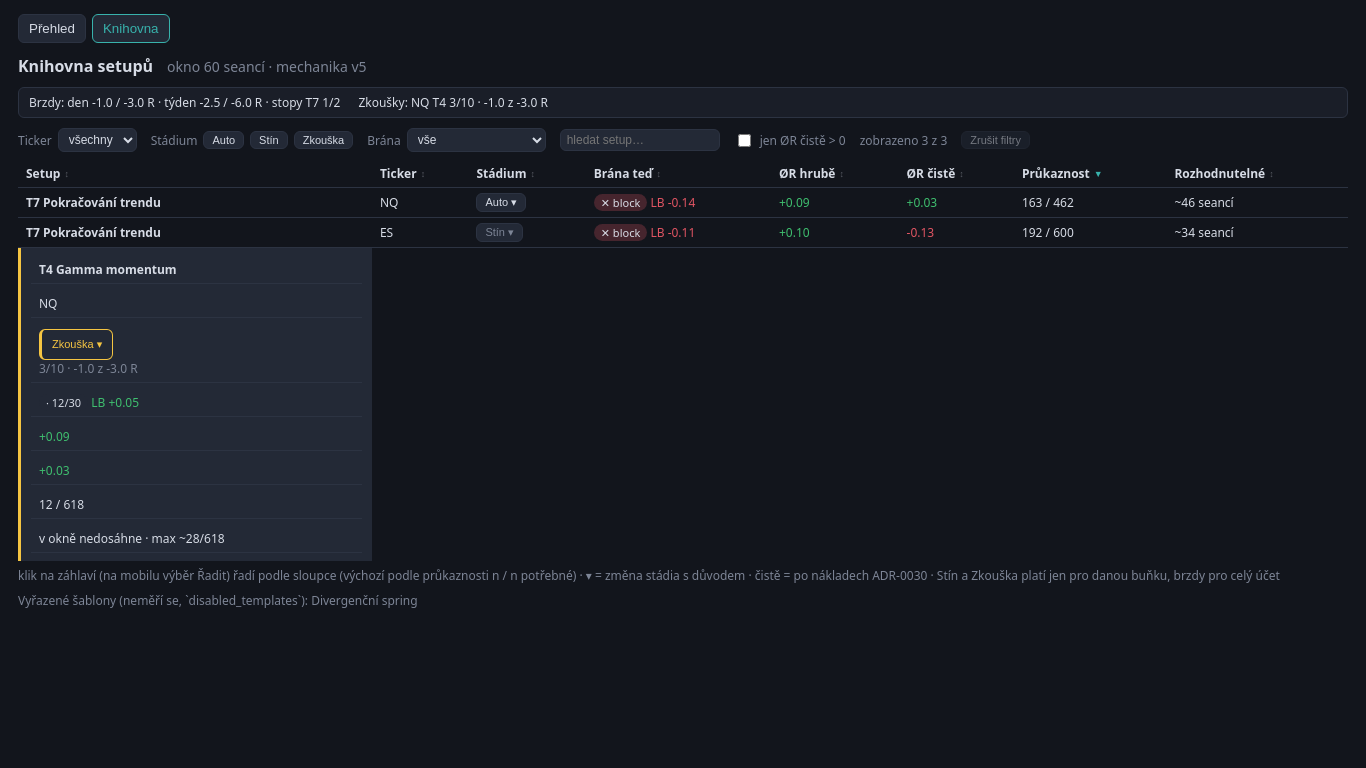
Scenario: dialog: běžící zkouška se obnovuje, kladná LB štítek nemá, chyba serveru zůstane v dialogu
Click the button with aria-label "Stádium T4 Gamma momentum · NQ" at (76, 344), box [39, 329, 113, 360]
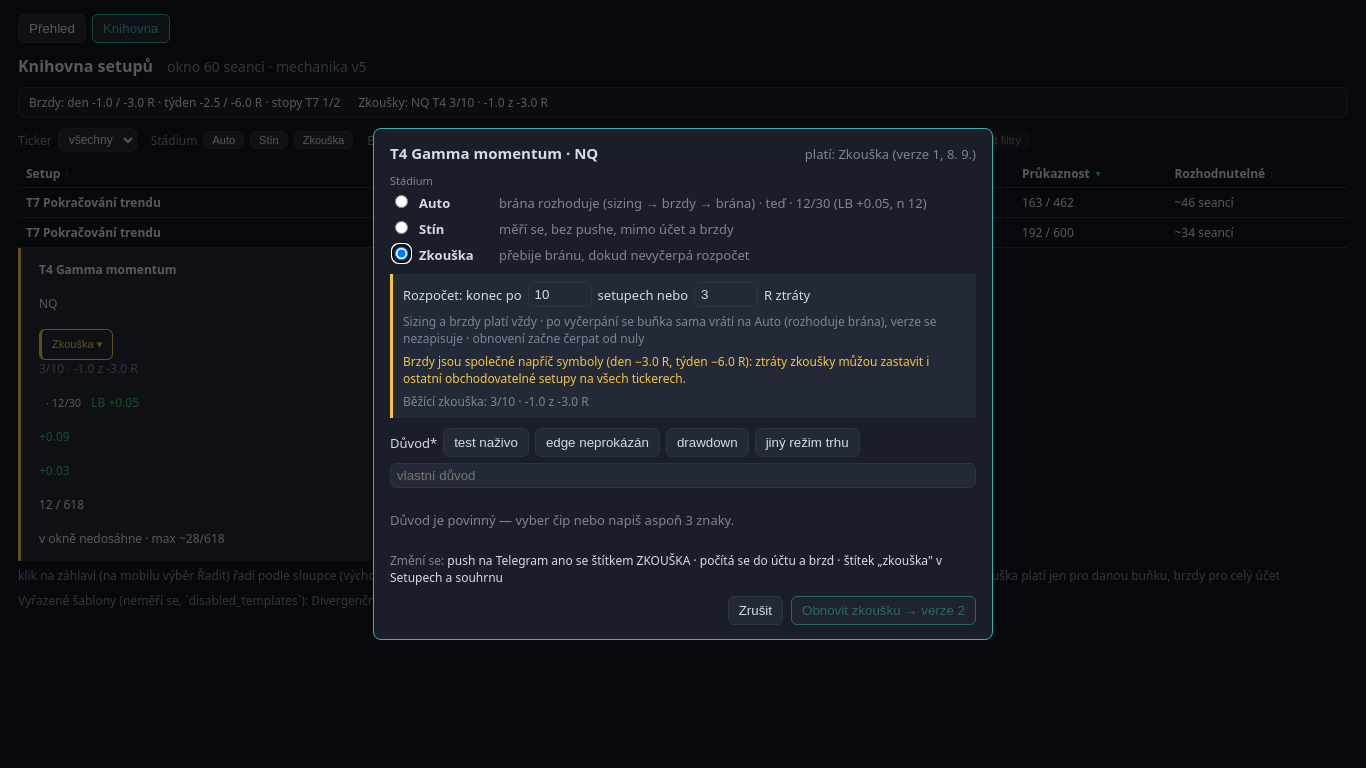
Result: the text with test id "stage-previous-trial" reads "Běžící zkouška: 3/10 · -1.0 z -3.0 R" at [403, 393, 589, 410]
Click the button "jiný režim trhu" at (807, 442), box [755, 428, 860, 457]
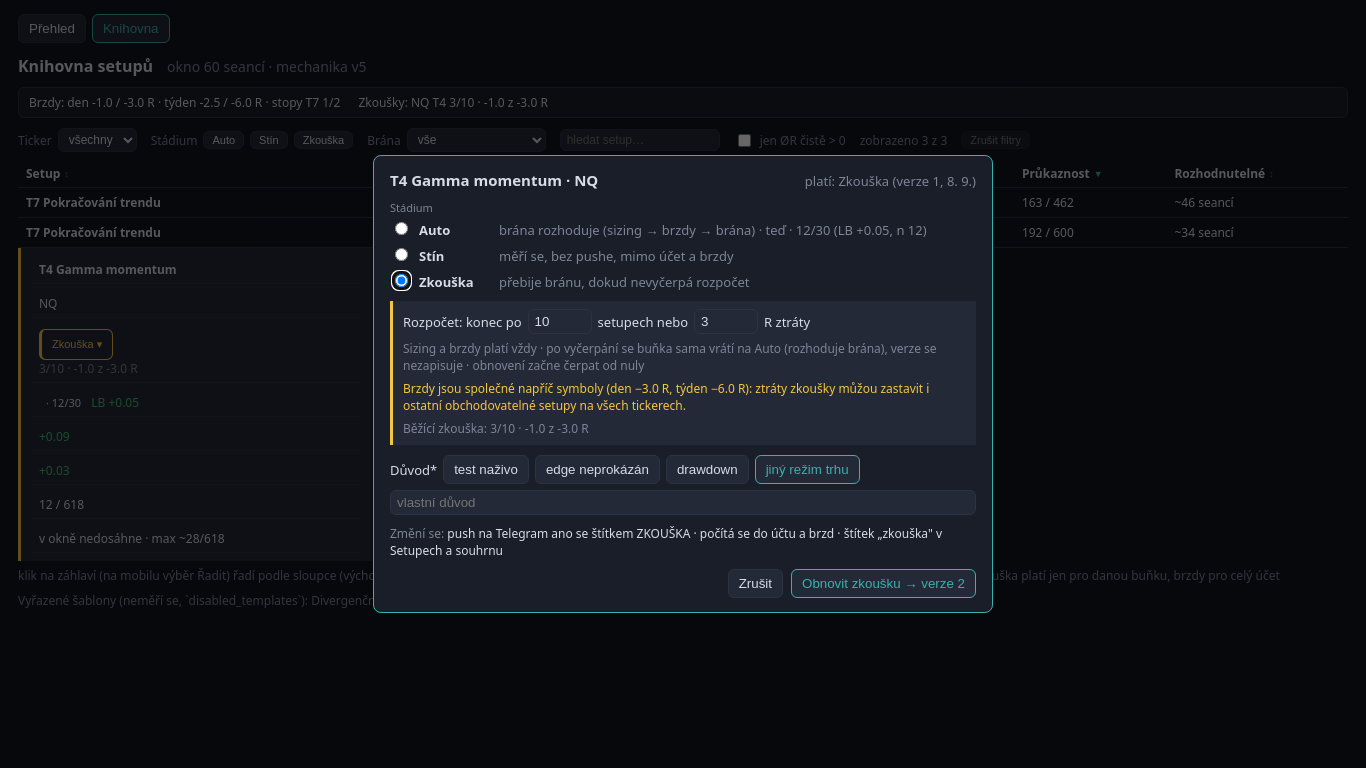
Click the button "Obnovit zkoušku → verze 2" at (884, 584), box [791, 569, 976, 598]
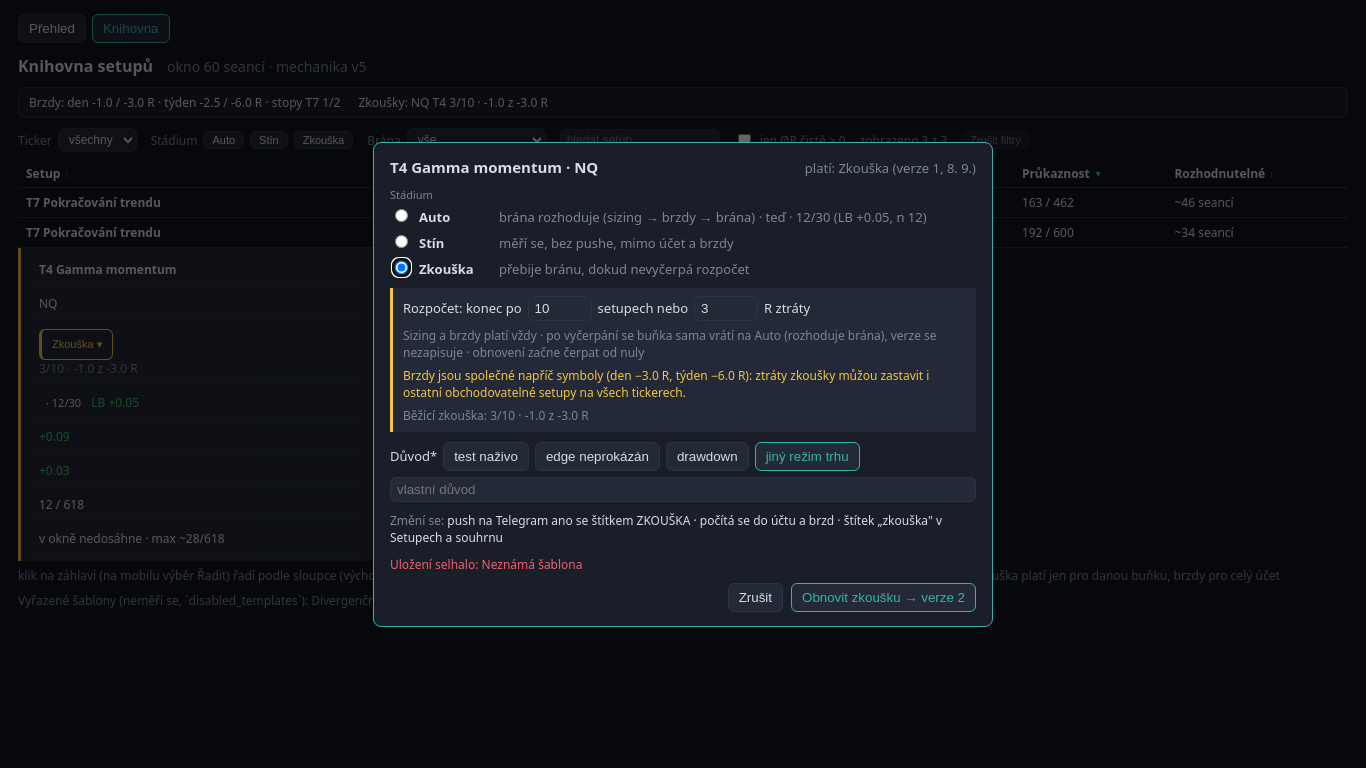
Result: the message reads "Uložení selhalo: Neznámá šablona" at [390, 556, 582, 572]
Note: Escape dialog zavře bez zápisu
Press Escape
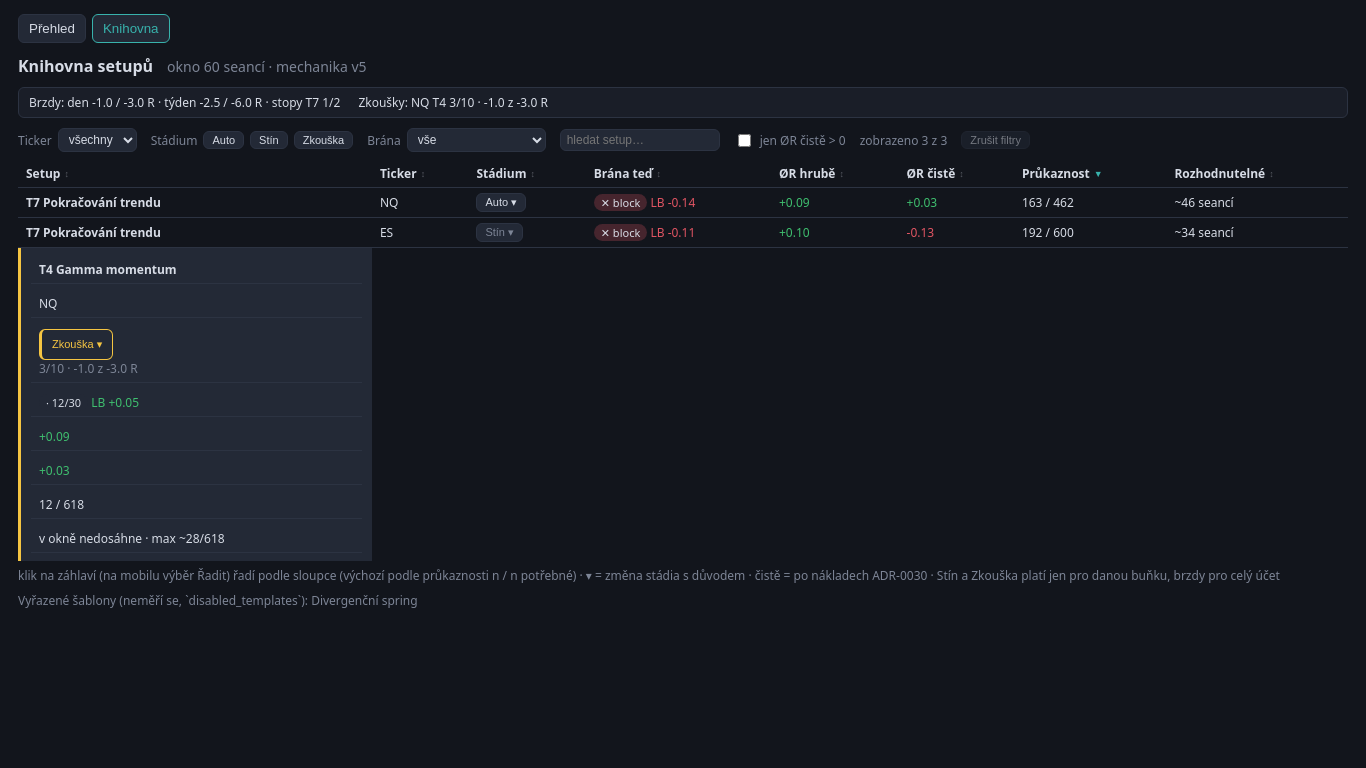
Result: the dialog is gone
